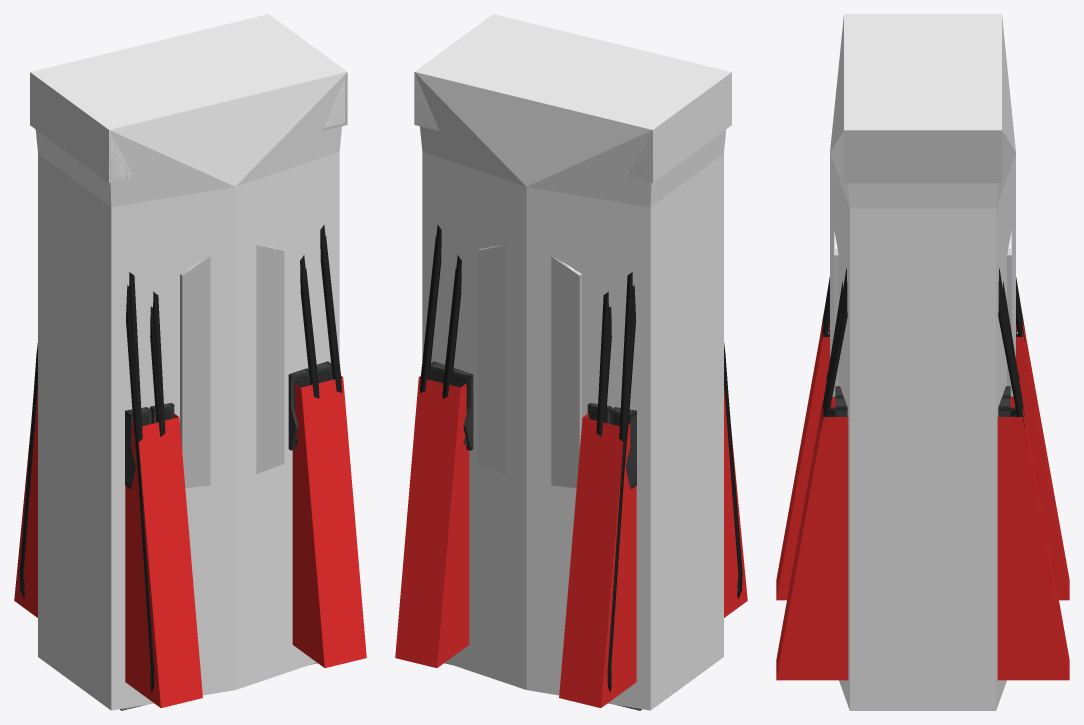
Rendered from s_fuel_pump_2000.dae.
3 views of the same model, side by side, from view 1: azimuth 30°, elevation 25°; view 2: azimuth 150°, elevation 25°; view 3: azimuth 270°, elevation 25° (orthographic).
Visible parts, largest first — view 1: Colmesh_s_fuel_pump_2000-1, s_fuel_pump_2000_L800, s_fuel_pump_2000_L400, s_fuel_pump_2000_L30, s_fuel_pump_2000_L80; view 2: Colmesh_s_fuel_pump_2000-1, s_fuel_pump_2000_L400, s_fuel_pump_2000_L800, s_fuel_pump_2000_L30, s_fuel_pump_2000_L80; view 3: s_fuel_pump_2000_L400, s_fuel_pump_2000_L800, Colmesh_s_fuel_pump_2000-1, s_fuel_pump_2000_L30, s_fuel_pump_2000_L80.
Part boxes in pixels (x1=…): Colmesh_s_fuel_pump_2000-1: x1=14, y1=72, x2=366, y2=710; s_fuel_pump_2000_L800: x1=19, y1=15, x2=344, y2=691; s_fuel_pump_2000_L400: x1=19, y1=14, x2=347, y2=696; s_fuel_pump_2000_L30: x1=109, y1=72, x2=347, y2=710; s_fuel_pump_2000_L80: x1=19, y1=224, x2=341, y2=709; Colmesh_s_fuel_pump_2000-1: x1=395, y1=72, x2=747, y2=710; s_fuel_pump_2000_L400: x1=414, y1=14, x2=742, y2=696; s_fuel_pump_2000_L800: x1=417, y1=15, x2=742, y2=691; s_fuel_pump_2000_L30: x1=414, y1=88, x2=652, y2=710; s_fuel_pump_2000_L80: x1=420, y1=224, x2=738, y2=710; s_fuel_pump_2000_L400: x1=821, y1=14, x2=1024, y2=697; s_fuel_pump_2000_L800: x1=826, y1=15, x2=1019, y2=547; Colmesh_s_fuel_pump_2000-1: x1=776, y1=16, x2=1069, y2=710; s_fuel_pump_2000_L30: x1=834, y1=130, x2=1011, y2=396; s_fuel_pump_2000_L80: x1=821, y1=230, x2=1024, y2=427.
Size of the model in its own units: 0.94 by 1 by 2.21.
